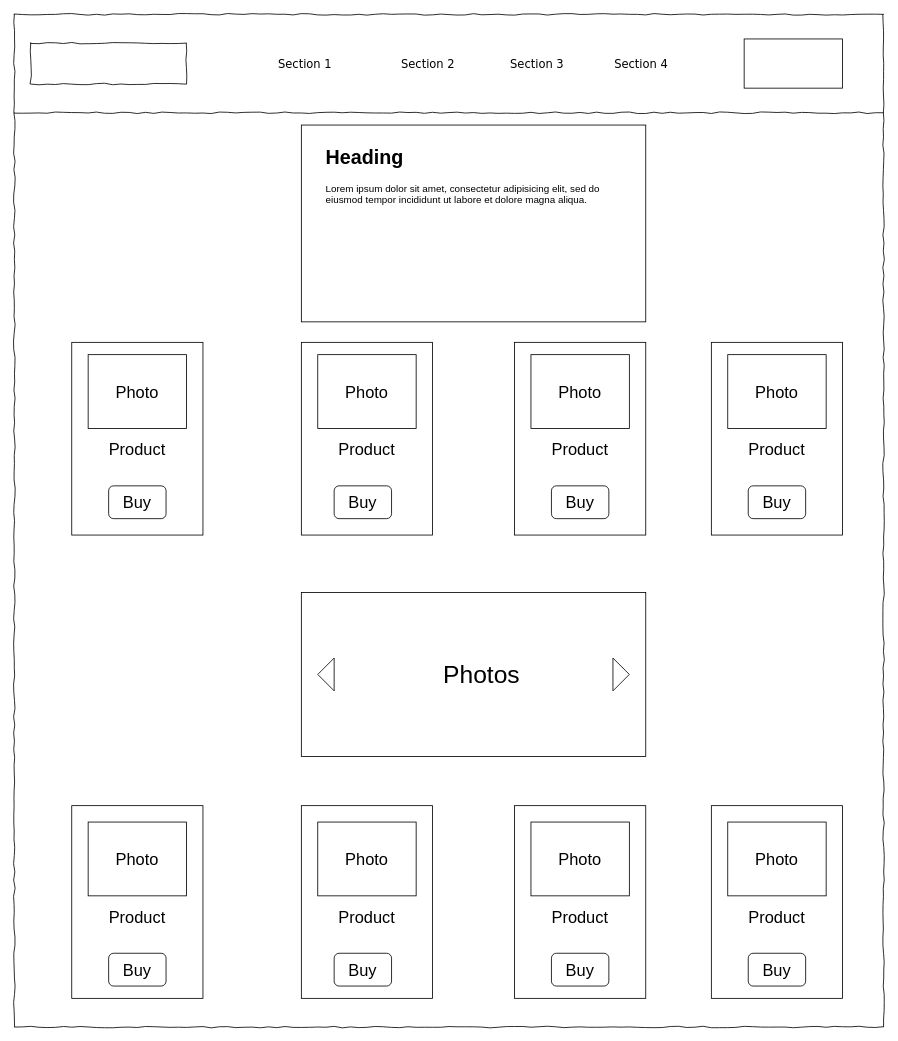
Some shapes in this 898 by 1041 pixel diagram are drawn without their labels. Each missing label, with the centre of its shape:
Login: (x=793, y=63)
LOGO: (x=108, y=63)
